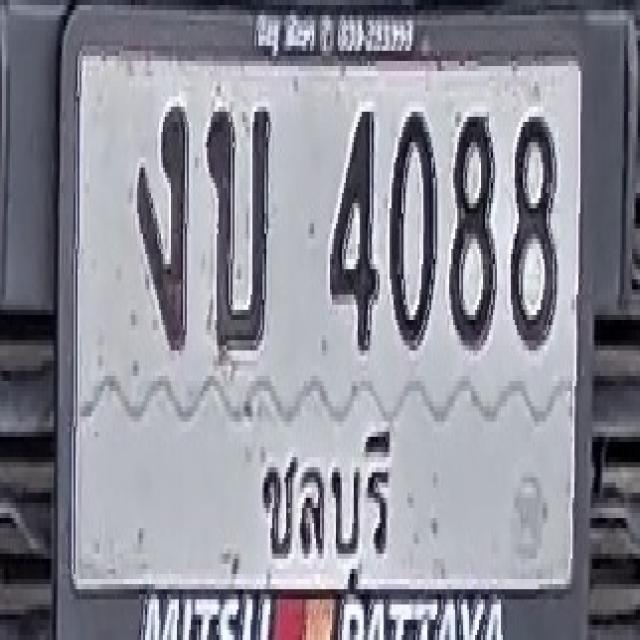-: (206, 102, 269, 356), (136, 104, 188, 348)
0: (390, 107, 435, 345)
4: (329, 107, 377, 350)
8: (449, 112, 495, 345), (510, 112, 555, 345)
CBI: (253, 402, 402, 591)
